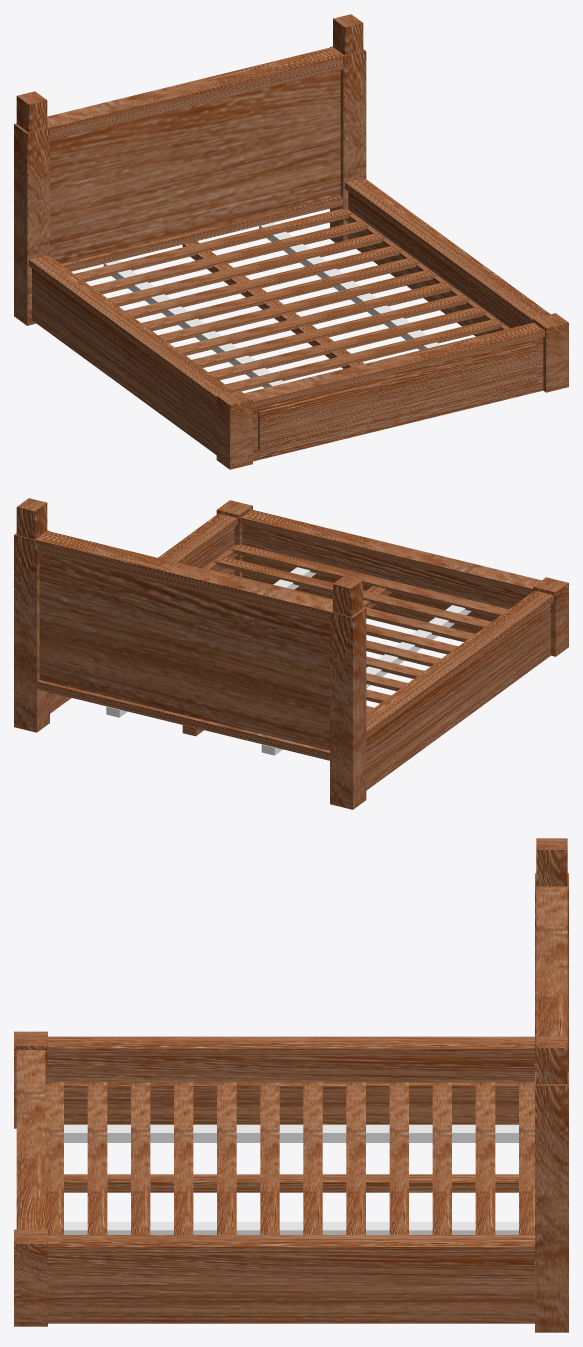
File: dipann.glb
The picture shows the model from 3 angles, top to bottom: view 1: azimuth 30°, elevation 25°; view 2: azimuth 150°, elevation 25°; view 3: azimuth 270°, elevation 25°; orthographic projection. The views are drawn at different scales.
Parts seen in each view (by area): view 1: HEADBOARD PANEL, FOOTBOARD PANEL, LEFT SIDE BOARD, HEADBOARD TOP, CORNER POST.002, FOOTBOARD TOP CAP, FOOTBOARD, LEFT TOP RIM, RIGHT TOP RIM, RIGHT SIDE BOARD, CORNER POST.003, BED SLAT 04 (+18 smaller); view 2: HEADBOARD PANEL, LEFT SIDE BOARD, FOOTBOARD, HEADBOARD TOP, CORNER POST.002, CORNER POST.003, FOOTBOARD TOP CAP, LEFT TOP RIM, HEADBOARD LOWER, BED SLAT 01, BED SLAT 02, RIGHT TOP RIM (+12 smaller); view 3: RIGHT SIDE BOARD, LEFT SIDE BOARD, LEFT TOP RIM, RIGHT TOP RIM, CORNER POST.003, FOOTBOARD TOP CAP, CENTER SUPPORT BEAM, CENTER SUPPORT BEAM.002, HEADBOARD TOP, CENTER SUPPORT BEAM.001, LEFT SLAT SUPPORT, CORNER POST.001 (+16 smaller).
Part boxes in pixels (left/top/right/bottom): HEADBOARD PANEL: left=50, top=70, right=340, bottom=263; FOOTBOARD PANEL: left=258, top=344, right=537, bottom=450; LEFT SIDE BOARD: left=32, top=268, right=216, bottom=454; HEADBOARD TOP: left=47, top=47, right=342, bottom=140; CORNER POST.002: left=14, top=123, right=49, bottom=325; FOOTBOARD TOP CAP: left=244, top=322, right=544, bottom=408; FOOTBOARD: left=253, top=337, right=543, bottom=461; LEFT TOP RIM: left=29, top=255, right=234, bottom=402; RIGHT TOP RIM: left=345, top=178, right=550, bottom=323; RIGHT SIDE BOARD: left=348, top=191, right=528, bottom=336; CORNER POST.003: left=330, top=46, right=366, bottom=242; BED SLAT 04: left=208, top=306, right=486, bottom=380; HEADBOARD PANEL: left=39, top=554, right=329, bottom=750; LEFT SIDE BOARD: left=366, top=604, right=550, bottom=790; FOOTBOARD: left=242, top=524, right=528, bottom=633; HEADBOARD TOP: left=37, top=531, right=332, bottom=624; CORNER POST.002: left=330, top=607, right=366, bottom=809; CORNER POST.003: left=14, top=530, right=49, bottom=732; FOOTBOARD TOP CAP: left=240, top=509, right=541, bottom=594; LEFT TOP RIM: left=366, top=590, right=553, bottom=738; HEADBOARD LOWER: left=37, top=680, right=329, bottom=760; BED SLAT 01: left=230, top=544, right=508, bottom=617; BED SLAT 02: left=214, top=555, right=491, bottom=629; RIGHT TOP RIM: left=158, top=513, right=237, bottom=563; RIGHT SIDE BOARD: left=48, top=1255, right=534, bottom=1323; LEFT SIDE BOARD: left=48, top=1057, right=534, bottom=1124; LEFT TOP RIM: left=48, top=1036, right=534, bottom=1056; RIGHT TOP RIM: left=48, top=1235, right=534, bottom=1254; CORNER POST.003: left=535, top=1071, right=568, bottom=1332; FOOTBOARD TOP CAP: left=16, top=1050, right=45, bottom=1229; CENTER SUPPORT BEAM: left=64, top=1174, right=518, bottom=1192; CENTER SUPPORT BEAM.002: left=64, top=1124, right=518, bottom=1142; HEADBOARD TOP: left=536, top=887, right=567, bottom=1036; CENTER SUPPORT BEAM.001: left=64, top=1222, right=518, bottom=1234; LEFT SLAT SUPPORT: left=64, top=1082, right=518, bottom=1094; CORNER POST.001: left=14, top=1229, right=47, bottom=1326.
Size of the model in its own units: 1.93 by 1.2 by 2.13.
Materials: 4 (2 with a texture image).
